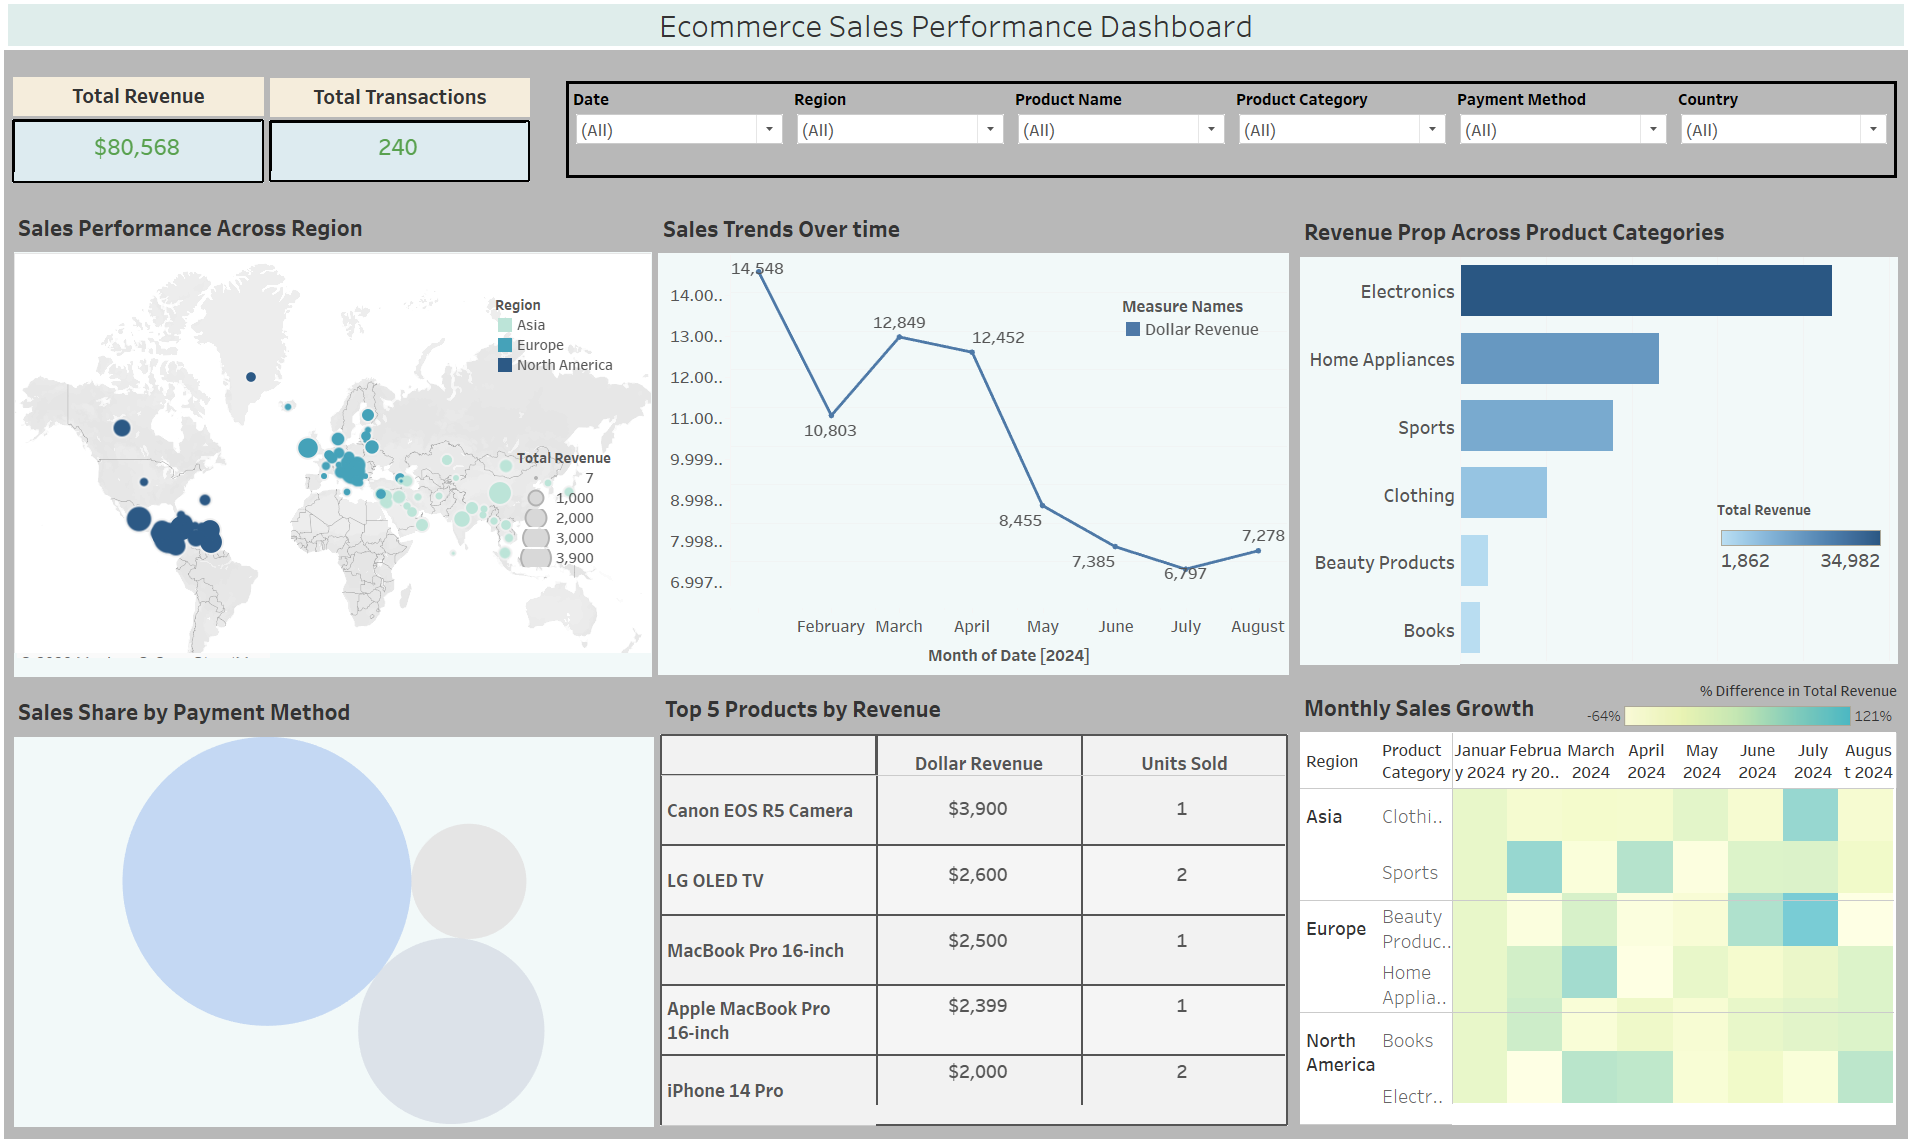

Layout of this report page (visuals, bound fields, positions):
{"tool":"tableau","page":{"name":"Dashboard","canvas":[1000,1000],"units":"permille","ordinal":0},"visuals":[{"type":"title","box":[4.2,8.6,991.5,54]},{"type":"worksheet","title":"Sheet 7","mark":"Automatic","box":[8.5,73.4,131.2,91.8]},{"type":"worksheet","title":"Sheet 8","mark":"Automatic","box":[142.4,74.5,136,89.6]},{"type":"filter","title":"Sheet 2","param":"[federated.1xxrevf1f4cqz6190l7rt01c58b6].[my:Date:ok]","box":[298.1,81,115.3,77.8]},{"type":"filter","title":"Sheet 2","param":"[federated.1xxrevf1f4cqz6190l7rt01c58b6].[none:Region:nk]","box":[413.4,81,115.3,77.8]},{"type":"filter","title":"Sheet 2","param":"[federated.1xxrevf1f4cqz6190l7rt01c58b6].[none:Product Name:nk]","box":[528.7,81,115.3,77.8]},{"type":"filter","title":"Sheet 2","param":"[federated.1xxrevf1f4cqz6190l7rt01c58b6].[none:Product Category:nk]","box":[644,81,114.8,77.8]},{"type":"filter","title":"Sheet 2","param":"[federated.1xxrevf1f4cqz6190l7rt01c58b6].[none:Payment Method:nk]","box":[758.8,81,114.8,77.8]},{"type":"filter","title":"Sheet 2","param":"[federated.1xxrevf1f4cqz6190l7rt01c58b6].[none:Country:nk]","box":[873.5,81,114.8,77.8]},{"type":"worksheet","title":"Sheet 1","mark":"Circle","box":[9.3,186.8,332.9,406.1]},{"type":"worksheet","title":"Sheet 2","mark":"Automatic","rows":["Total Revenue"],"cols":["Date"],"box":[344.9,187.9,328.9,403.9]},{"type":"worksheet","title":"Sheet 3","mark":"Automatic","rows":["Product Category"],"box":[679.1,190.1,311.4,401.7]},{"type":"legend","title":"Sheet 1","param":"[federated.1xxrevf1f4cqz6190l7rt01c58b6].[none:Region:nk]","box":[260,262.1,79.8,94.7]},{"type":"legend","title":"Sheet 2","param":"[federated.1xxrevf1f4cqz6190l7rt01c58b6].[:Measure Names]","box":[586.7,262.1,88.5,52]},{"type":"legend","title":"Sheet 1","param":"[federated.1xxrevf1f4cqz6190l7rt01c58b6].[sum:Total Revenue:qk]","box":[271.2,394.9,69.8,138.6]},{"type":"legend","title":"Sheet 3","param":"[federated.1xxrevf1f4cqz6190l7rt01c58b6].[sum:Total Revenue:qk]","box":[896.5,439.9,87.3,90.1]},{"type":"legend","title":"Sheet 6","param":"[federated.1xxrevf1f4cqz6190l7rt01c58b6].[pcdf:sum:Total Revenue:qk:1]","box":[826.8,596.1,163.7,50.8]},{"type":"worksheet","title":"Sheet 6","mark":"Square","rows":["Region","Product Category"],"cols":["Date"],"box":[679.1,602.6,310.8,378]},{"type":"worksheet","title":"Sheet 5","mark":"Automatic","rows":["Product Name"],"box":[345.9,603.7,327.3,378]},{"type":"worksheet","title":"Sheet 4","mark":"Circle","box":[9.6,605.8,333.2,376.9]}]}

Visuals, with their boxes on the dashboard's canvas, which has no fixed pixel size, in thousandths of its width and height (x1, y1, x2, y2). These are canvas units, not pixel positions in the 1911x1141 screenshot, which may show the page scaled, cropped or inside an application window:
title: box(4, 9, 996, 63)
"Sheet 7" worksheet: box(8, 73, 140, 165)
"Sheet 8" worksheet: box(142, 74, 278, 164)
"Sheet 2" filter: box(298, 81, 413, 159)
"Sheet 2" filter: box(413, 81, 529, 159)
"Sheet 2" filter: box(529, 81, 644, 159)
"Sheet 2" filter: box(644, 81, 759, 159)
"Sheet 2" filter: box(759, 81, 874, 159)
"Sheet 2" filter: box(874, 81, 988, 159)
"Sheet 1" worksheet (Circle marks): box(9, 187, 342, 593)
"Sheet 2" worksheet: box(345, 188, 674, 592)
"Sheet 3" worksheet: box(679, 190, 990, 592)
"Sheet 1" legend: box(260, 262, 340, 357)
"Sheet 2" legend: box(587, 262, 675, 314)
"Sheet 1" legend: box(271, 395, 341, 534)
"Sheet 3" legend: box(896, 440, 984, 530)
"Sheet 6" legend: box(827, 596, 990, 647)
"Sheet 6" worksheet (Square marks): box(679, 603, 990, 981)
"Sheet 5" worksheet: box(346, 604, 673, 982)
"Sheet 4" worksheet (Circle marks): box(10, 606, 343, 983)
